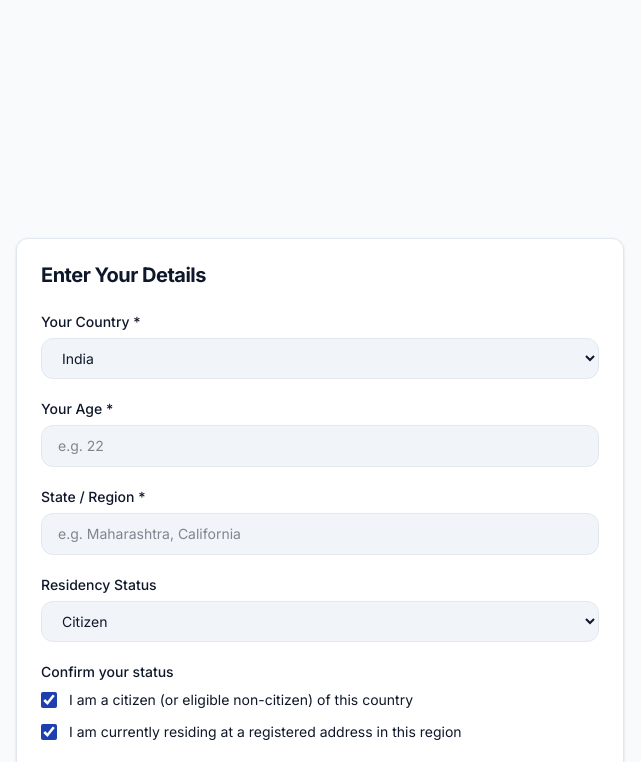
Scenario: EligibilityClient Component › should show eligibility form and handle submission
The width and height of the screenshot is (641, 762).
In the field labelled "State / Region *": (320, 534) [41,513,599,555], type "Maharashtra"
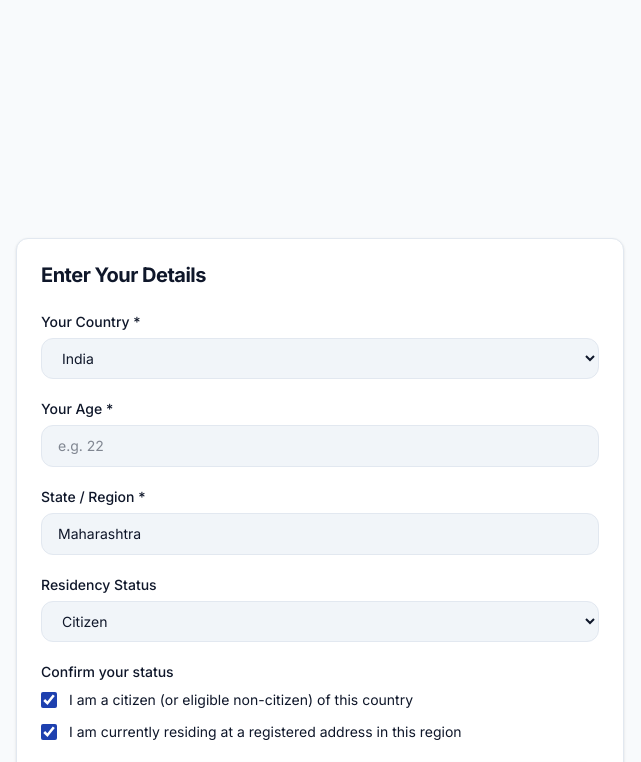
In the number field labelled "Your Age *": (320, 446) [41,425,599,467], type "20"
(page scrolled)
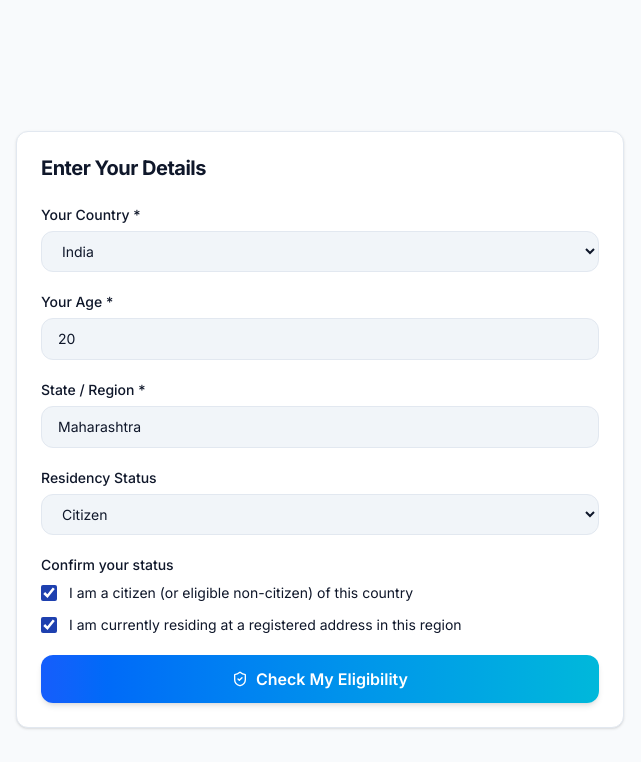
Click the button "Check My Eligibility": (320, 679) [41,655,599,703]
(page scrolled)
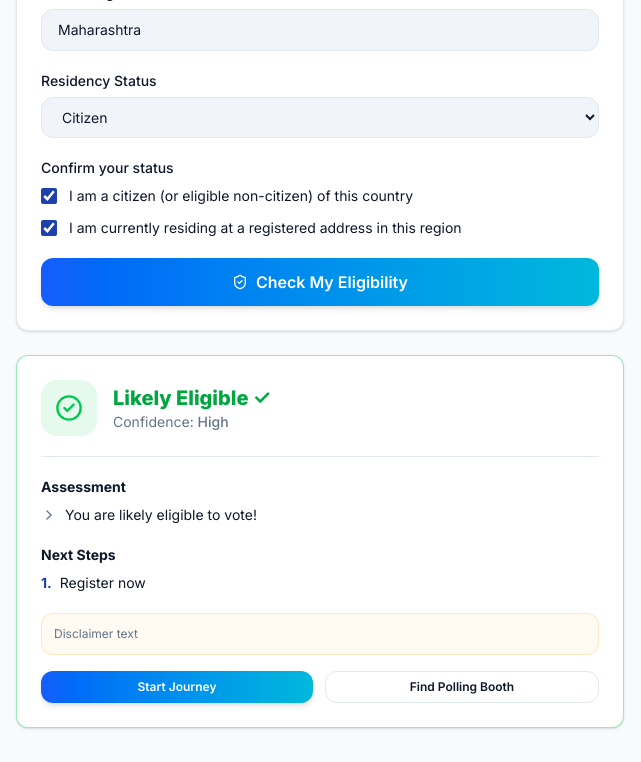
Now the list item "You are likely eligible to vote!" is shown, box [41,506,257,523]
